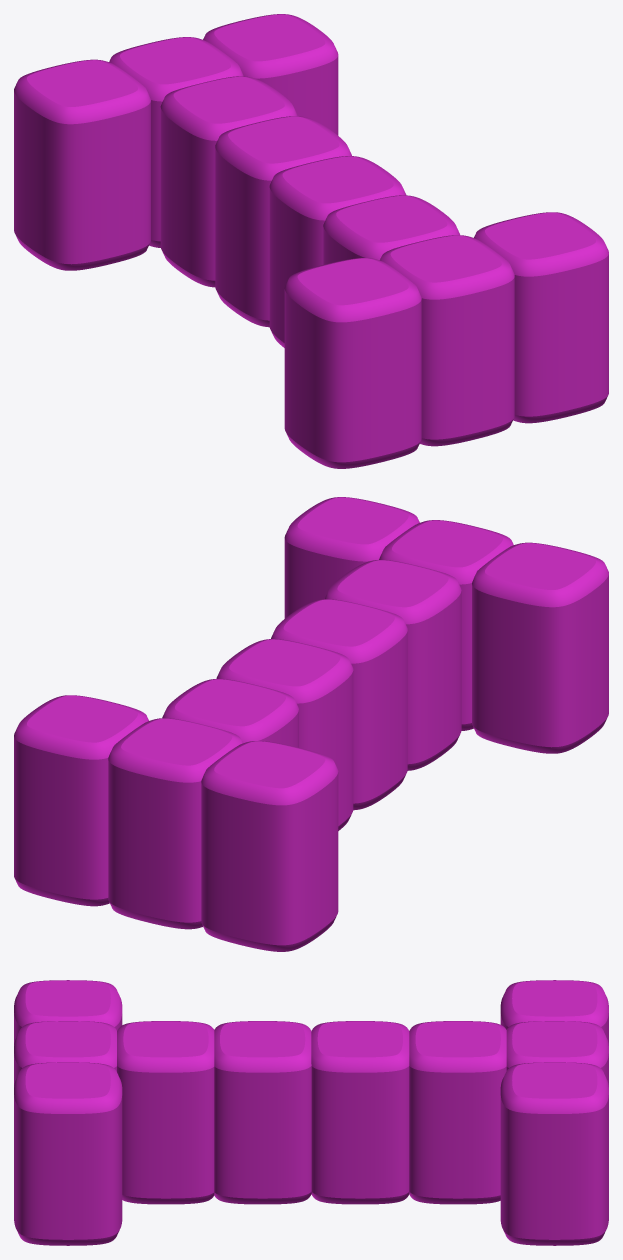
File: Letter_I.fbx
3 renders of one model, top to bottom at view 1: azimuth 30°, elevation 25°; view 2: azimuth 150°, elevation 25°; view 3: azimuth 270°, elevation 25°, orthographic. The views are drawn at different scales.
Visible parts, largest first — view 1: Letter_I; view 2: Letter_I; view 3: Letter_I.
Part boxes in pixels (x1,y1,x2,y2): Letter_I: (14,14,608,468); Letter_I: (14,497,608,951); Letter_I: (14,980,608,1245).
Size of the model in its own units: 0.2619 by 0.14 by 0.5146.
